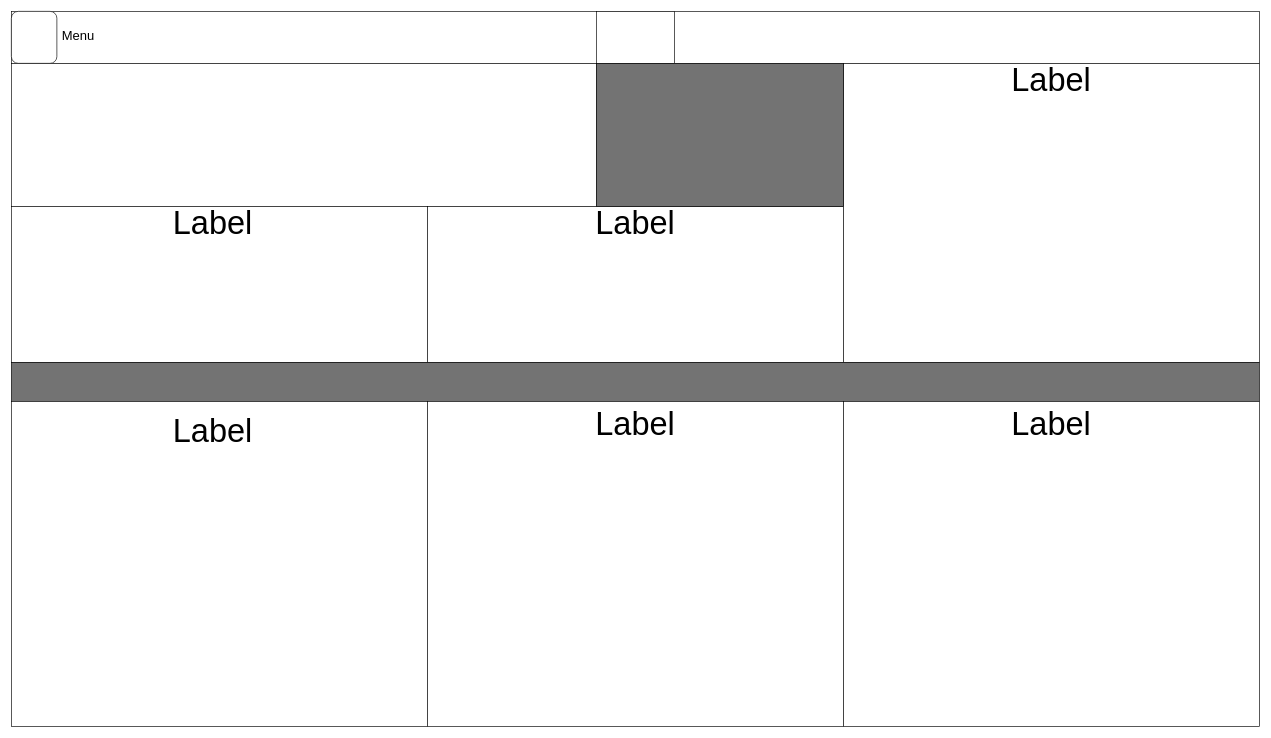
The diagram is 1271 pixels wide and 738 high, and some of its shapes have lost their labels. The centre of each missing label's shape, as x and y in pixels:
"Cat Snaps" goes at (303,134).
"LOGO" goes at (635,37).
